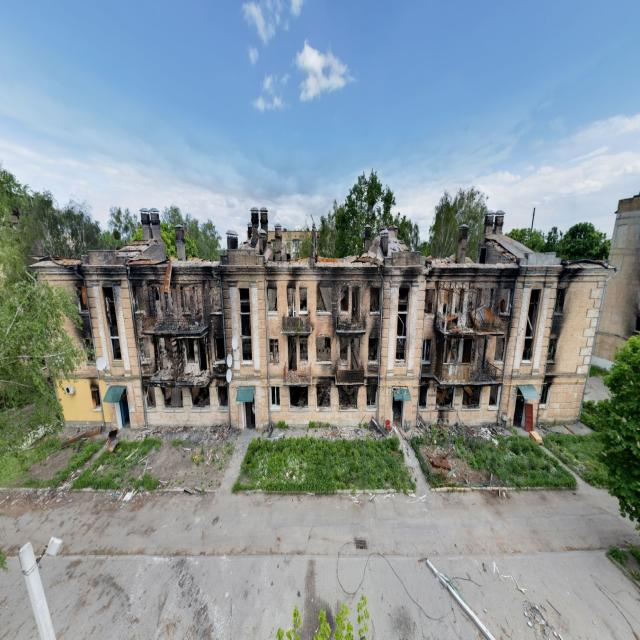broken_window: (103, 284, 122, 362), (395, 285, 409, 364), (238, 287, 252, 364)
building: (19, 199, 620, 436)
